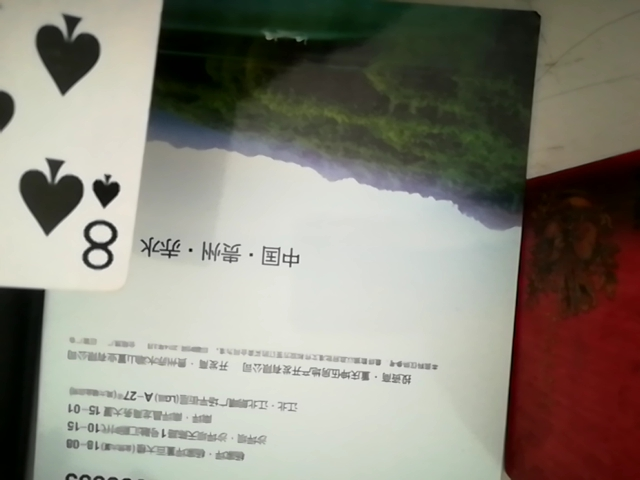ht 8: (0, 0, 172, 306)
